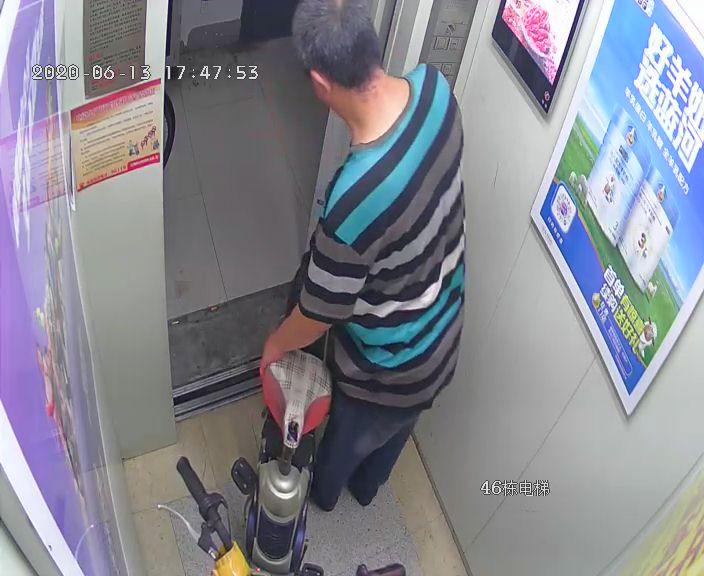Electric-bicycle: (235, 258, 330, 573)
